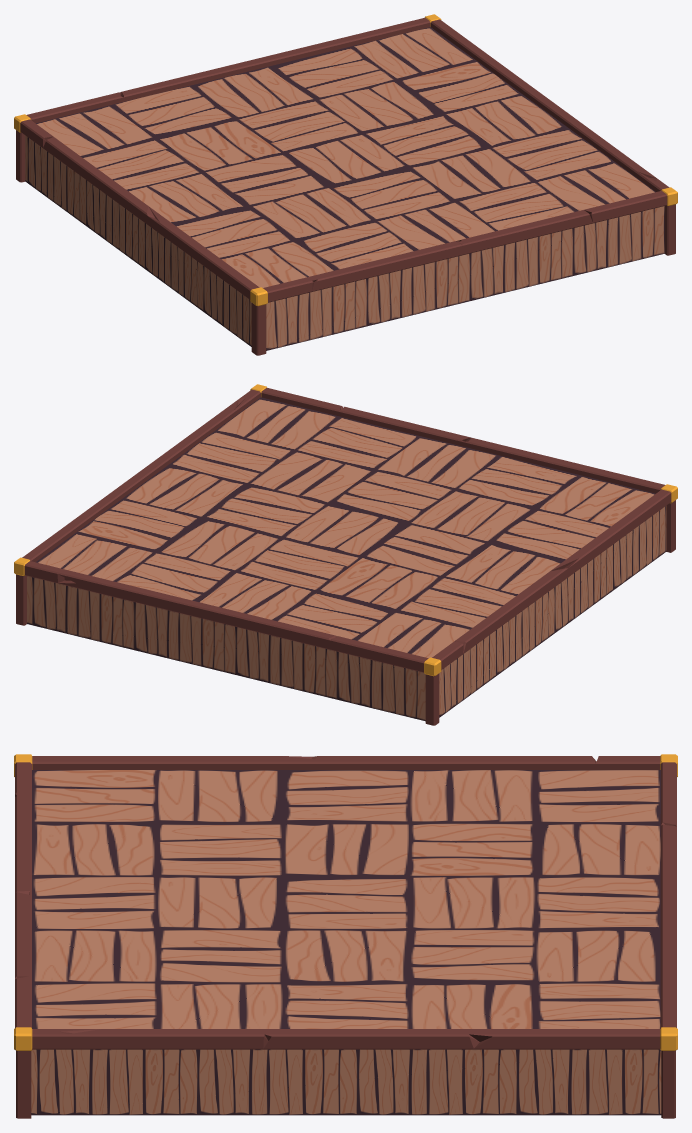
Rendered from Ring.glb.
The picture shows the model from 3 angles, top to bottom: view 1: azimuth 30°, elevation 25°; view 2: azimuth 150°, elevation 25°; view 3: azimuth 270°, elevation 25°; orthographic projection. The views are drawn at different scales.
Parts seen in each view (by area): view 1: Ring_Floor, Belt, Side1, Side3; view 2: Ring_Floor, Belt, Side4, Side3; view 3: Ring_Floor, Side2, Belt.
Part boxes in pixels (x1,y1,x2,y2): Ring_Floor: (36, 27, 655, 287); Belt: (14, 14, 677, 355); Side1: (266, 206, 664, 350); Side3: (25, 135, 251, 346); Ring_Floor: (36, 397, 655, 658); Belt: (14, 384, 677, 725); Side4: (27, 576, 425, 721); Side3: (439, 506, 666, 717); Ring_Floor: (32, 770, 660, 1028); Side2: (31, 1049, 661, 1115); Belt: (14, 754, 677, 1118).
Size of the model in its own units: 7.9 by 1.12 by 7.89.
3 materials, 1 textured.
